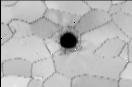good_void: (53, 27, 84, 55)
